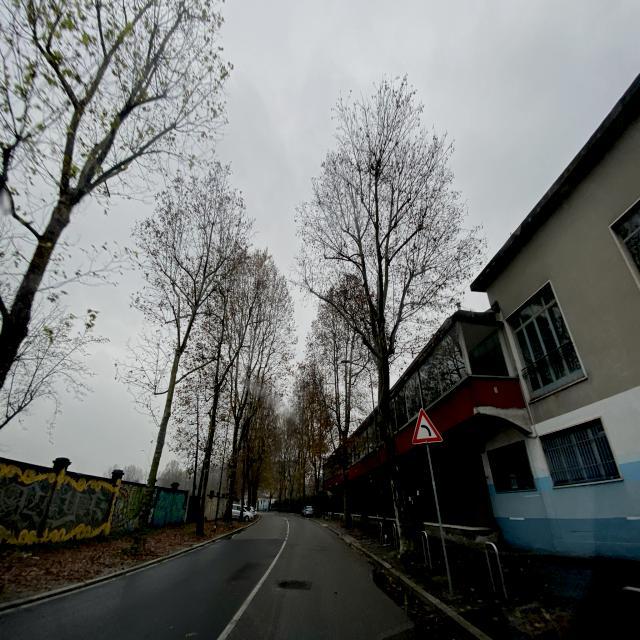car: (231, 502, 254, 522), (302, 504, 316, 518)
